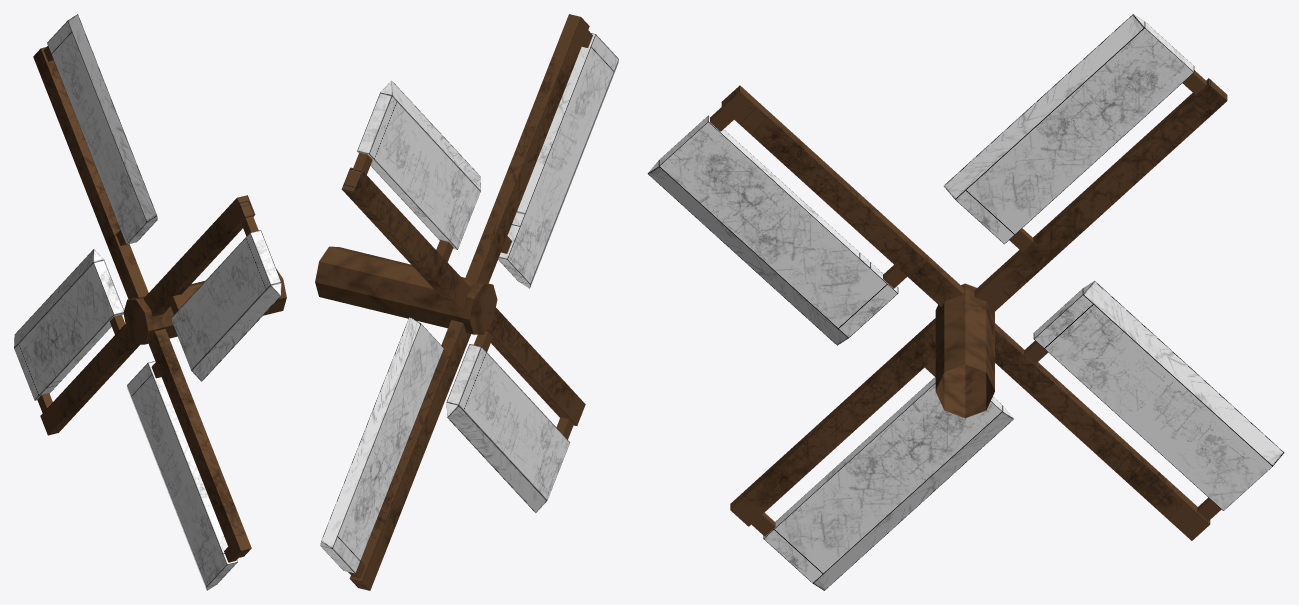
File: MoinhoDeVentoPa.fbx
3 renders of one model, left to right at view 1: azimuth 30°, elevation 25°; view 2: azimuth 150°, elevation 25°; view 3: azimuth 270°, elevation 25°, orthographic. The views are drawn at different scales.
Visible parts, largest first — view 1: Cenario.001; view 2: Cenario.001; view 3: Cenario.001.
Part boxes in pixels (x1,y1,x2,y2): Cenario.001: [14, 14, 286, 590]; Cenario.001: [315, 14, 618, 590]; Cenario.001: [647, 14, 1284, 590].
Bounding box in the file's own units: 339 × 1128 × 1129.
